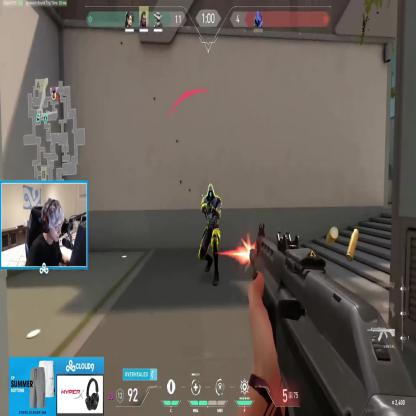enemy: (198, 185, 222, 288)
enemy_head: (206, 184, 216, 199)
